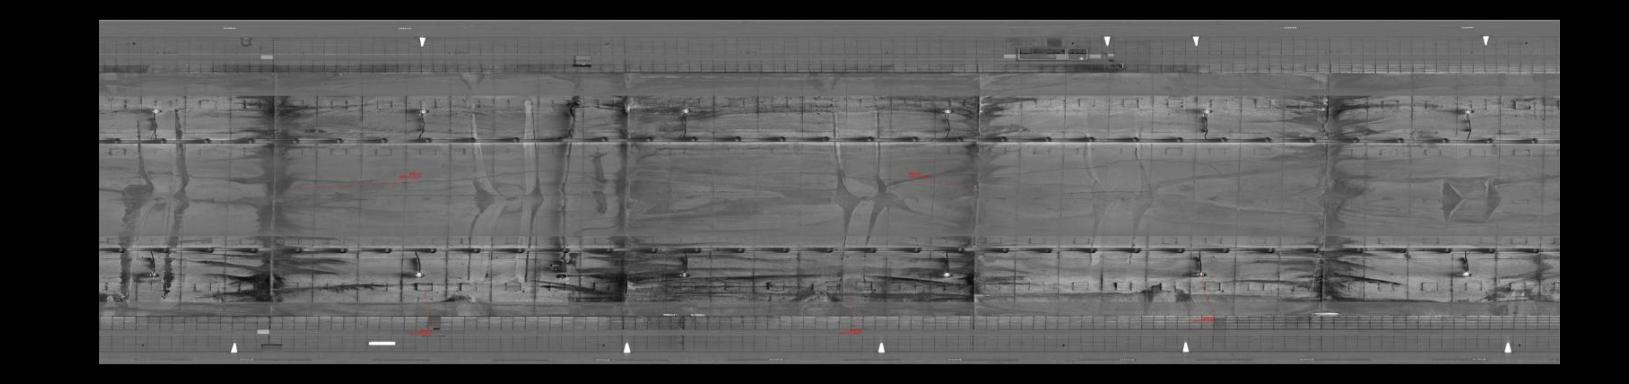light: (412, 105, 435, 118), (1457, 268, 1476, 282), (1190, 268, 1210, 280), (1458, 104, 1479, 115), (936, 105, 959, 115), (1194, 105, 1214, 115), (146, 105, 165, 116), (409, 268, 427, 279), (939, 269, 956, 280), (144, 268, 161, 279), (677, 106, 695, 116), (675, 270, 695, 278)
